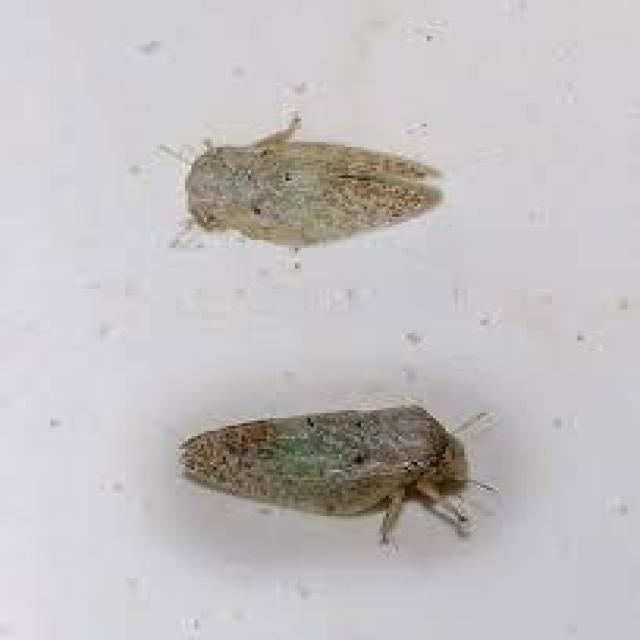Psyllid: (179, 397, 496, 550), (153, 111, 439, 268)
